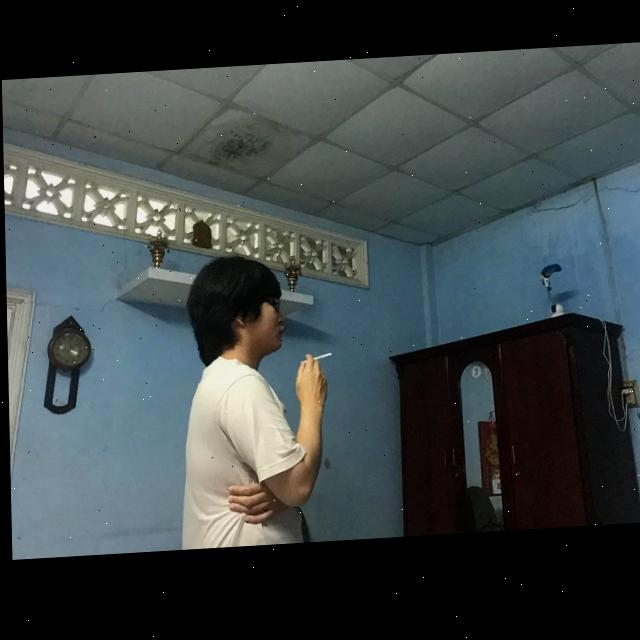cigarette: (299, 356, 330, 367)
